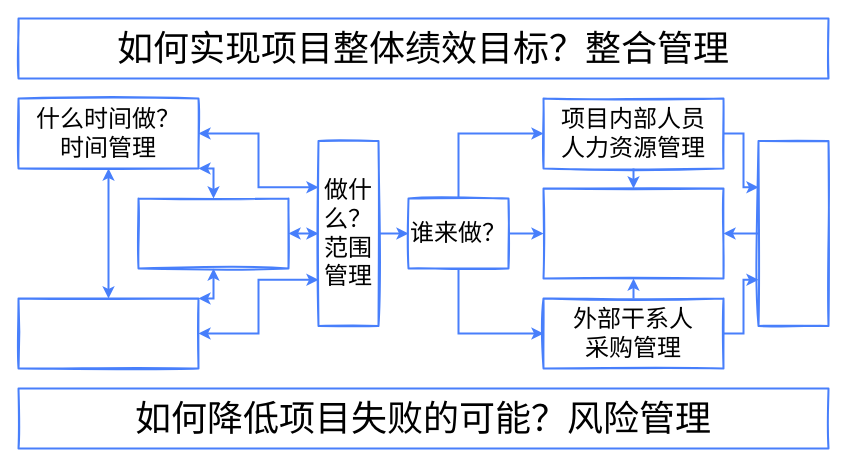
The diagram is 846 pixels wide and 466 high, and some of its shapes have lost their labels. Here are the shapes that lost their labels. From the top down, the centre of each, then its label:
(213,233): 什么标准做？ 质量管理
(633,233): 干系人利益 与参与程度 干系人管理
(793,233): 信息如何传递？ 沟通管理
(108,333): 多少成本做？ 成本管理
